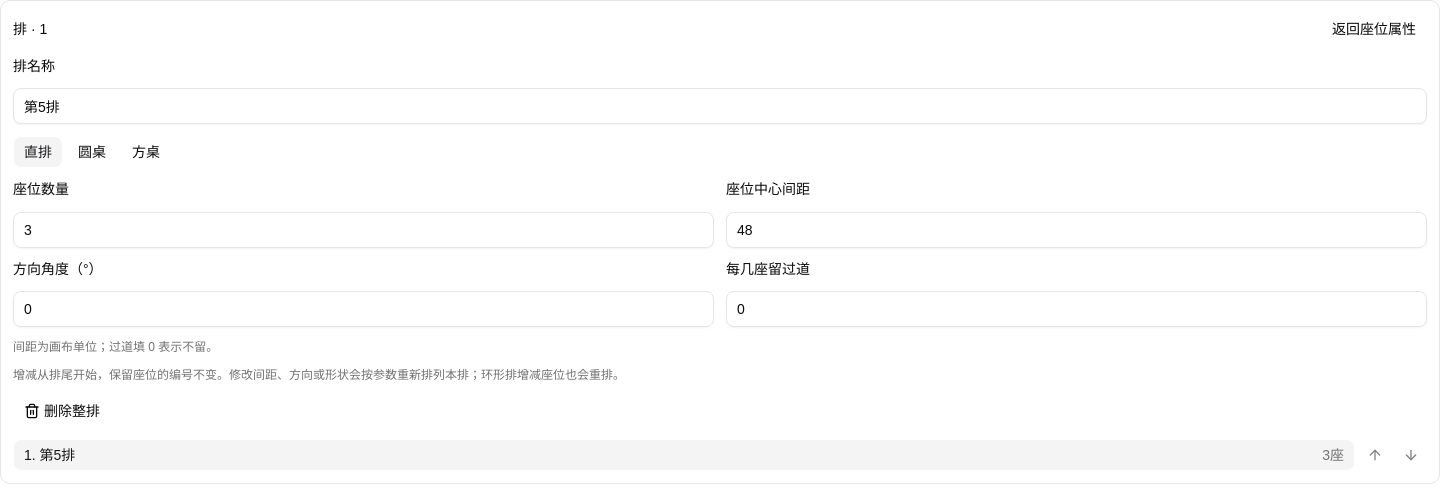
Test: 排参数面板 › 修改有效参数立即生效，减座显示明确影响
Replace the text in the number field labelled "座位数量" with "2" at coordinates (364, 230), box x1=13 y1=212 x2=714 y2=248
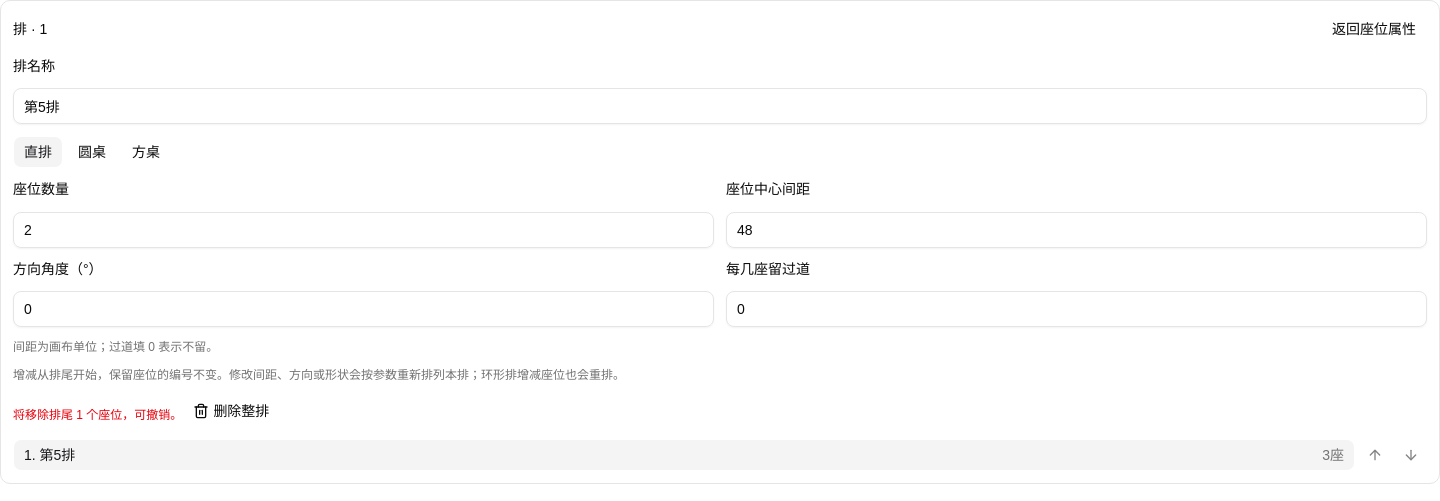
Check: the text "将移除排尾 1 个座位，可撤销。" is shown, box x1=13 y1=408 x2=182 y2=422
